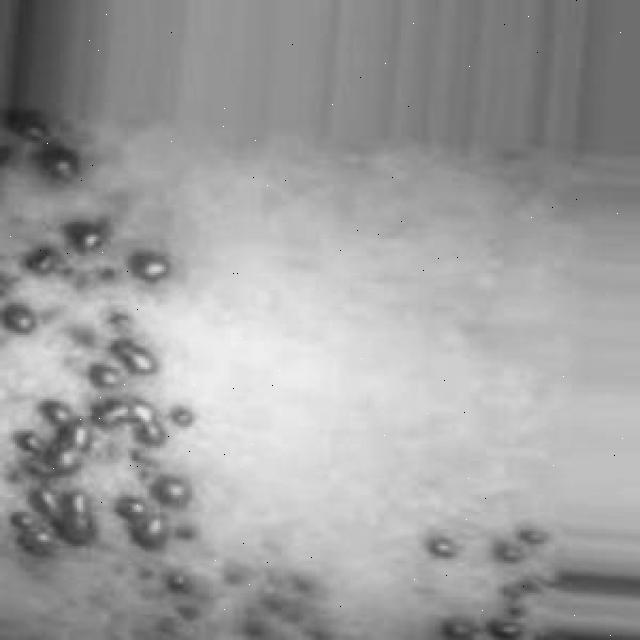Shingles: (0, 107, 199, 559)
